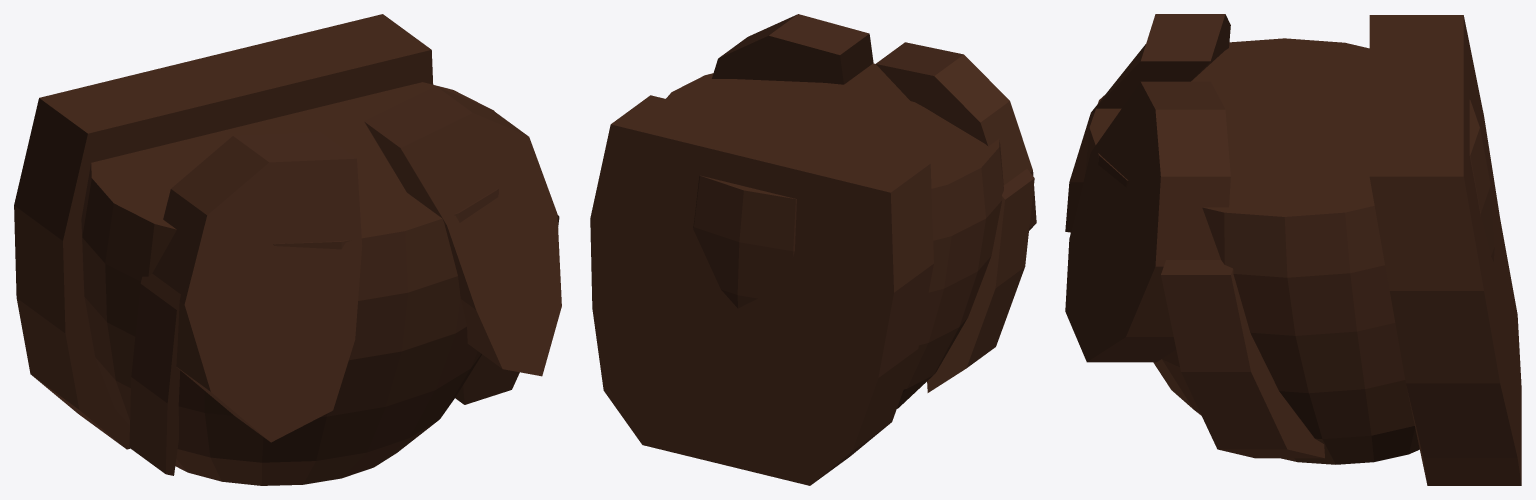
Rendered from hair_boy_curtains_01.glb.
3 renders of one model, left to right at view 1: azimuth 30°, elevation 25°; view 2: azimuth 150°, elevation 25°; view 3: azimuth 270°, elevation 25°, orthographic. The views are drawn at different scales.
Parts seen in each view (by area): view 1: Curtains_Cap, Curtains_Fringe_L, Curtains_Back_Mass, Curtains_Fringe_R, Curtains_Side_L, Curtains_Side_R; view 2: Curtains_Back_Mass, Curtains_Cap, Curtains_Fringe_L, Curtains_Fringe_R, Curtains_Side_L; view 3: Curtains_Cap, Curtains_Back_Mass, Curtains_Fringe_R, Curtains_Side_R, Curtains_Fringe_L.
Boxes of the visible parts, <box> form: Curtains_Cap: <box>81,82,498,485</box>; Curtains_Fringe_L: <box>152,132,362,442</box>; Curtains_Back_Mass: <box>14,14,433,449</box>; Curtains_Fringe_R: <box>364,86,561,376</box>; Curtains_Side_L: <box>129,273,180,475</box>; Curtains_Side_R: <box>455,215,559,404</box>; Curtains_Back_Mass: <box>590,95,933,485</box>; Curtains_Cap: <box>666,63,1003,408</box>; Curtains_Fringe_L: <box>876,42,1036,230</box>; Curtains_Fringe_R: <box>712,14,873,84</box>; Curtains_Side_L: <box>927,169,1034,392</box>; Curtains_Cap: <box>1085,38,1494,464</box>; Curtains_Back_Mass: <box>1369,15,1521,485</box>; Curtains_Fringe_R: <box>1065,81,1230,362</box>; Curtains_Side_R: <box>1161,260,1324,458</box>; Curtains_Fringe_L: <box>1065,14,1230,232</box>.
Size of the model in its own units: 0.326 by 0.311 by 0.339.
